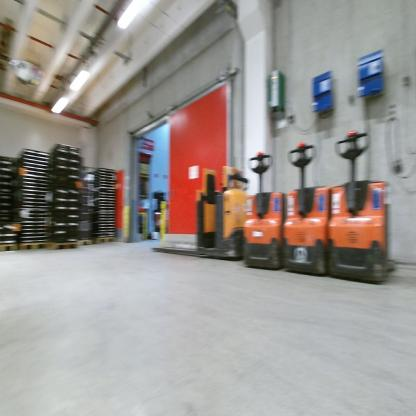pallet: (20, 238, 51, 254), (1, 238, 23, 254), (44, 241, 77, 251), (96, 232, 119, 246), (77, 237, 94, 252)
pallet_truck: (321, 125, 402, 285), (163, 165, 256, 264), (280, 132, 341, 278), (243, 143, 290, 274), (147, 189, 172, 235)
